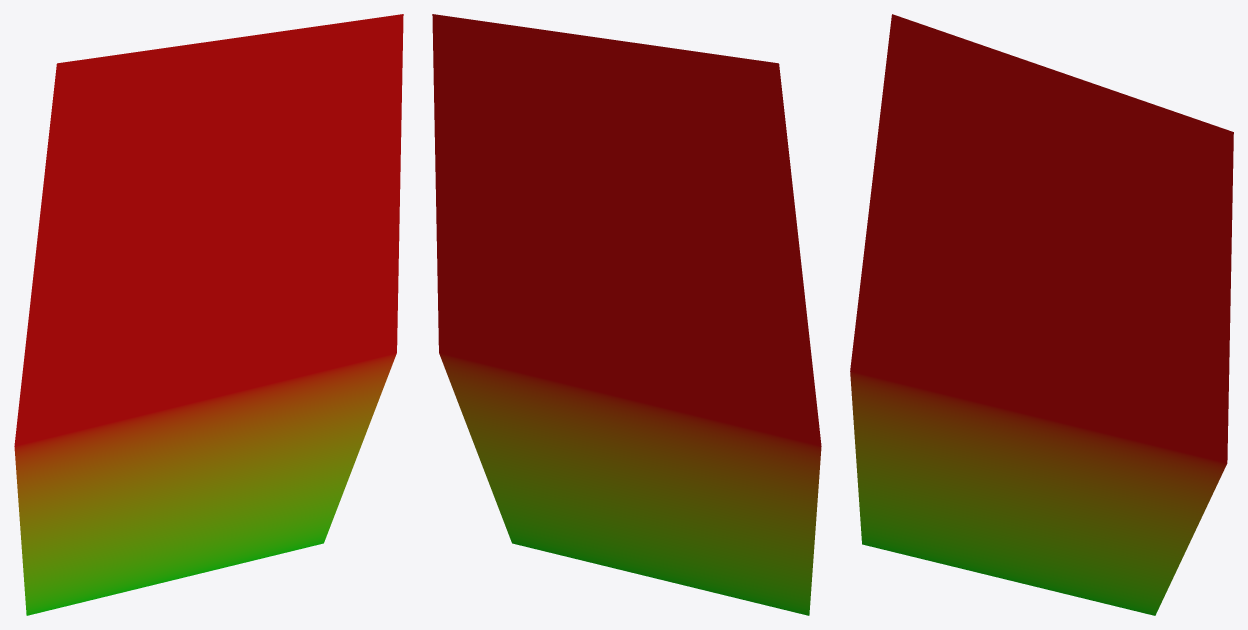
Rendered from Var2_LOD4.fbx.
3 views of the same model, side by side, from view 1: azimuth 30°, elevation 25°; view 2: azimuth 150°, elevation 25°; view 3: azimuth 330°, elevation 25° (orthographic).
Visible parts, largest first — view 1: _15ec_Var2_LOD4; view 2: _15ec_Var2_LOD4; view 3: _15ec_Var2_LOD4.
Boxes of the visible parts, x1,y1,x2,y2 form: _15ec_Var2_LOD4: [14, 14, 403, 615]; _15ec_Var2_LOD4: [432, 14, 821, 615]; _15ec_Var2_LOD4: [850, 14, 1233, 615].
Bounding box in the file's own units: 35.68 × 47.77 × 7.69e-06.
